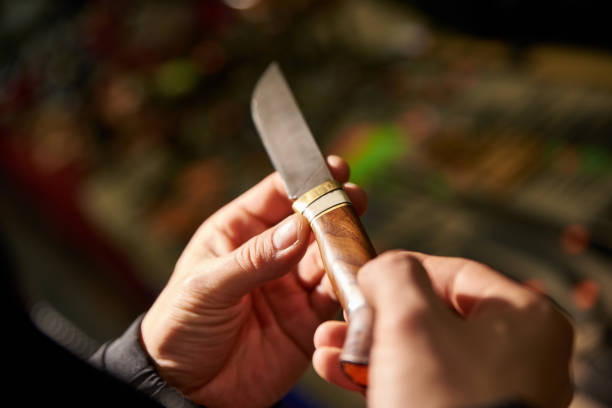knife: (246, 56, 407, 369)
